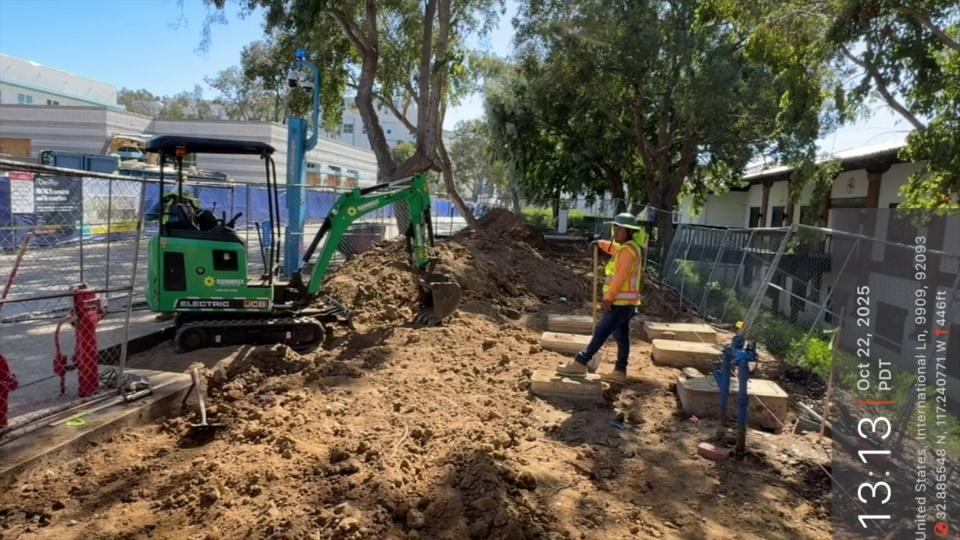Exacavator: (129, 125, 501, 377)
